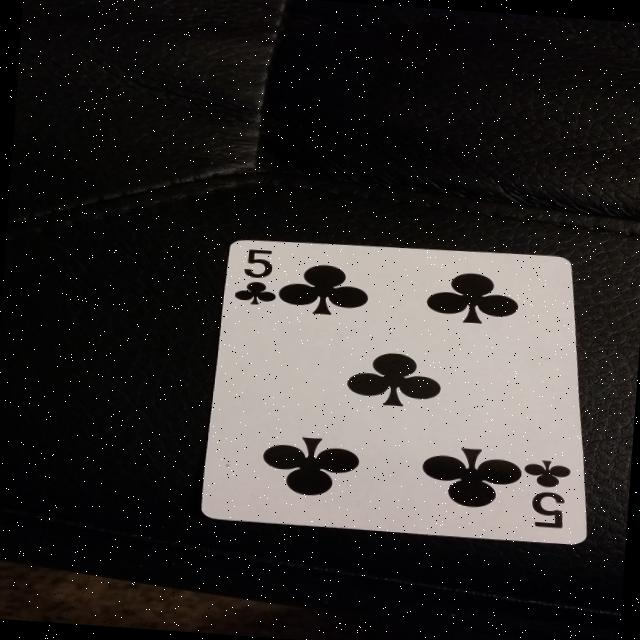5c: (503, 449, 589, 541), (218, 236, 290, 312)
